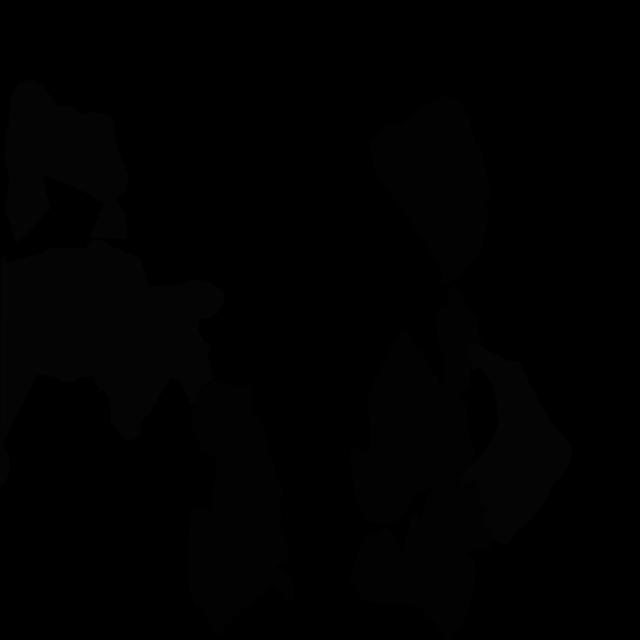cardboard: (187, 382, 295, 634), (350, 328, 477, 524), (349, 479, 495, 640), (370, 95, 490, 285), (436, 285, 485, 396)
soft_plastic: (0, 240, 224, 489), (457, 343, 573, 545), (4, 79, 129, 244)
